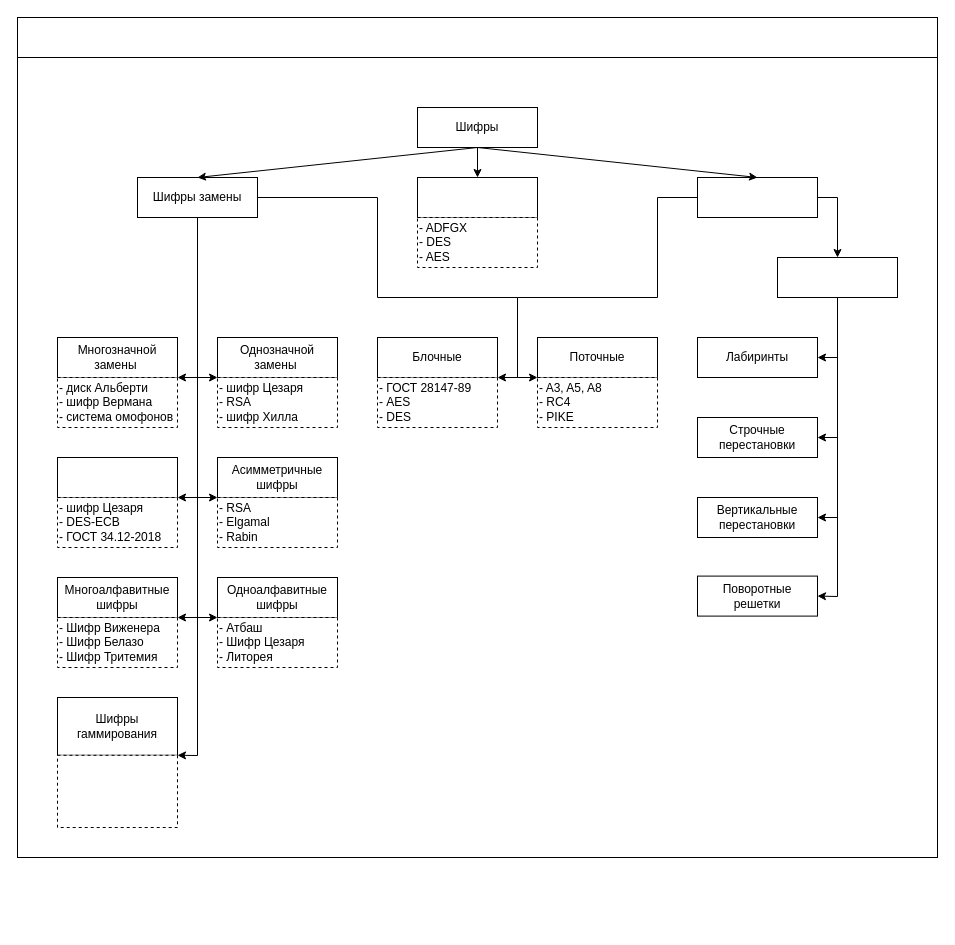
Some shapes in this 955 by 945 pixel diagram are drawn without their labels. The centre of each missing label's shape, as x and y in pixels:
"- Шифр Вернама - Шифрование сложение по модулю N - Квантовые шифры" belongs at point 117,791.
"Классификация шифров" belongs at point 477,37.
"Композиционные шифры" belongs at point 477,197.
"Маршрутные перестановки" belongs at point 837,277.
"Симметричные шифры" belongs at point 117,477.
"Шифры перестановки" belongs at point 757,197.
